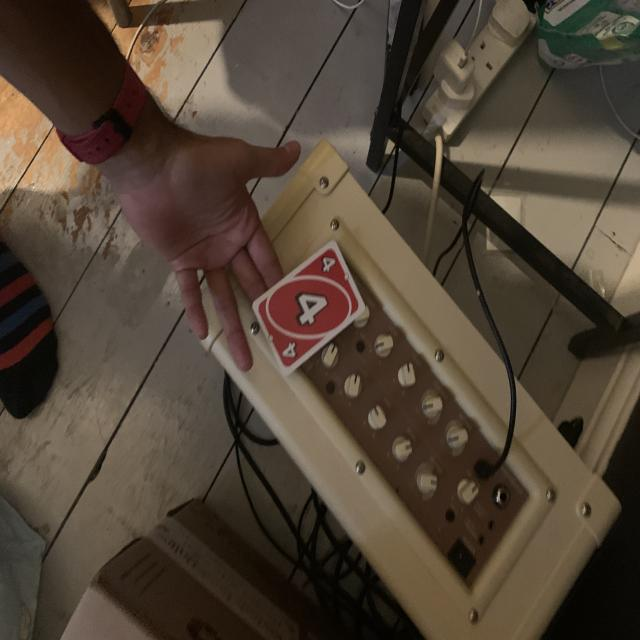lred-4: (316, 252, 338, 276)
